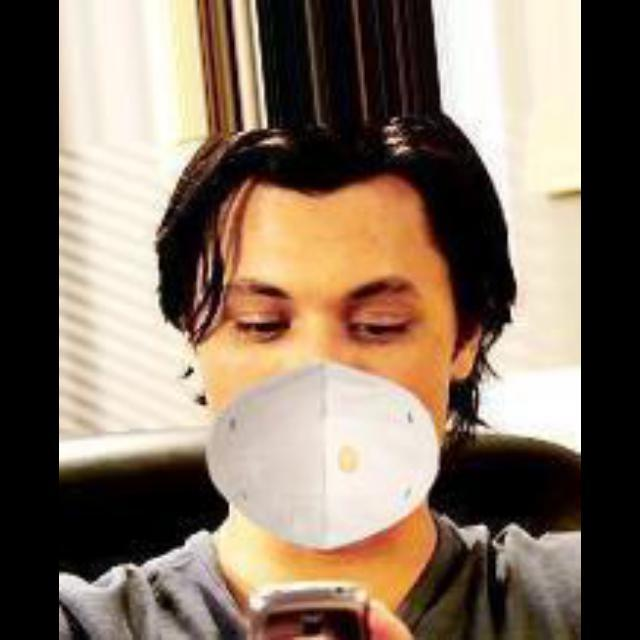suspicion: (98, 138, 486, 580)
